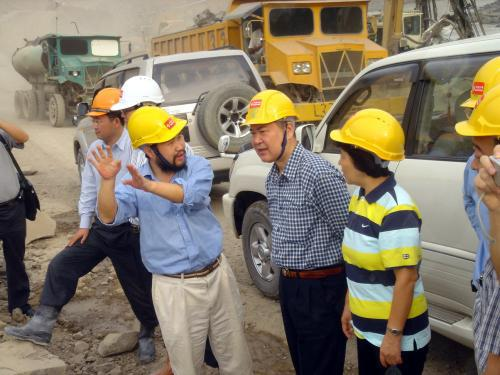helmet: (330, 105, 409, 185), (240, 84, 303, 164), (456, 82, 499, 194), (127, 104, 191, 165), (87, 83, 129, 143), (119, 75, 163, 118)
